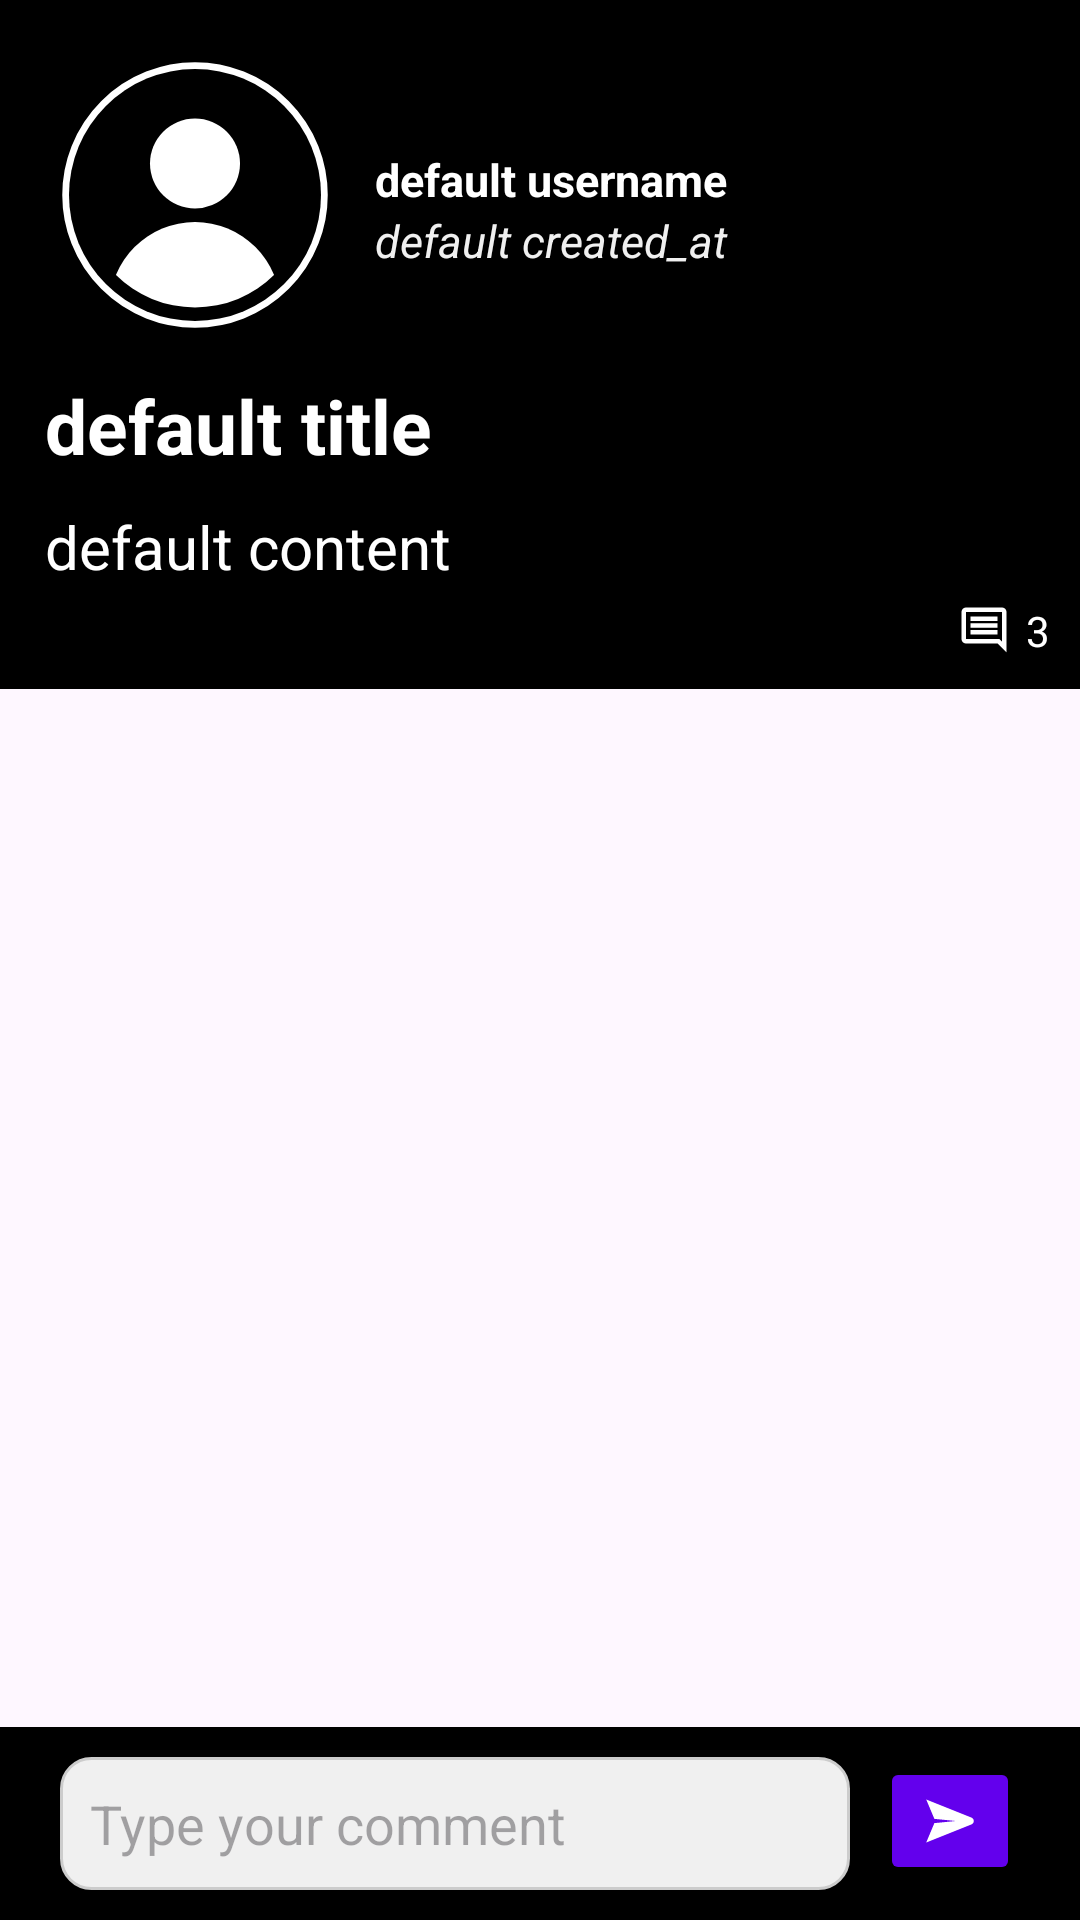

Icon bounding boxes for this 1080px×1920px phone screenshot, format (x1, y1, x2, y2):
profile: (62, 62, 328, 328)
send: (892, 1775, 1008, 1867)
